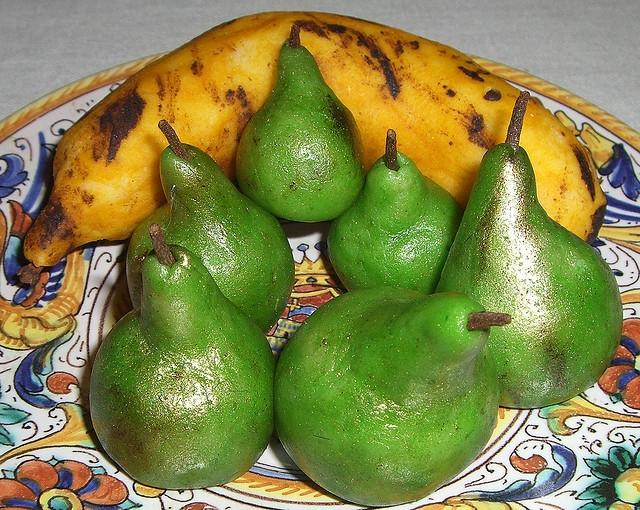banana: (23, 11, 607, 268)
pear: (438, 91, 622, 411), (274, 287, 512, 507), (90, 223, 276, 490), (125, 118, 294, 334), (235, 38, 366, 222), (328, 129, 463, 295)
